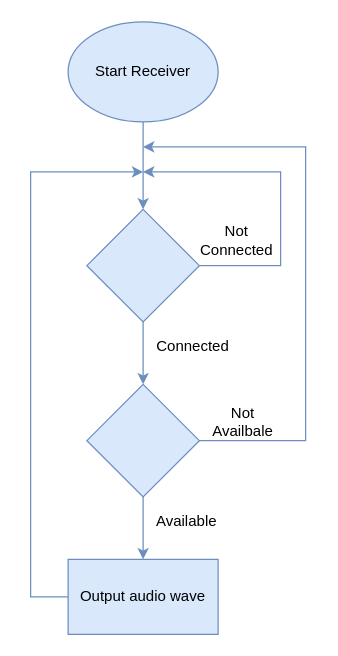
This 338x656 diagram has some shape labels left out. The shapes that lost their labels are listed below. From the top down, each one's centre as x and y in pixels, then its label:
At (x=142, y=265): "Check connectivity of transmitter".
At (x=142, y=440): "Check for data availability".
